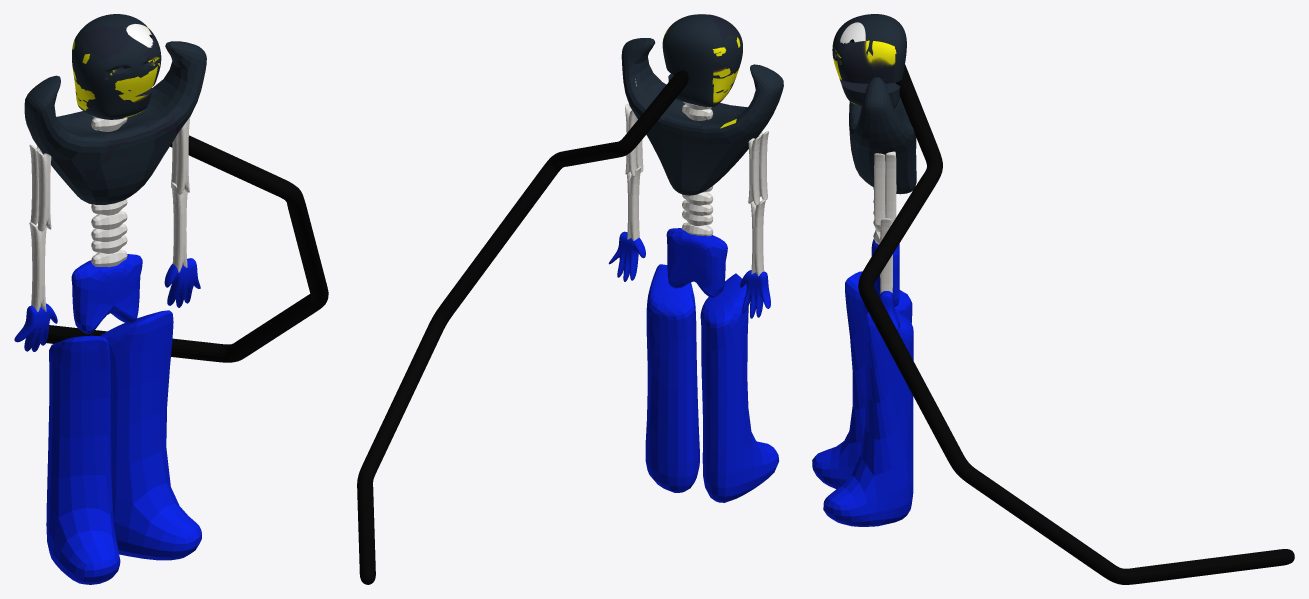
3 renders of one model, left to right at view 1: azimuth 30°, elevation 25°; view 2: azimuth 150°, elevation 25°; view 3: azimuth 270°, elevation 25°, orthographic. The views are drawn at different scales.
Parts seen in each view (by area): view 1: Куб.010, Куб.009, Cube, Куб.019, Куб.002, Куб.008, Куб.016, Куб.017, Куб.018, Куб.011, Куб.014, Куб.013 (+5 smaller); view 2: Куб.010, Cube, Куб.009, Куб.019, Куб.002, Куб.008, Куб.017, Куб.018, Куб.016, Куб.011, Куб.015, Куб.014; view 3: Куб.019, Куб.009, Куб.002, Cube, Куб.010, Куб.012, Куб.013.
Part boxes in pixels (<box>): Куб.010: <box>46,335,120,584</box>; Куб.009: <box>100,310,201,560</box>; Cube: <box>24,41,206,204</box>; Куб.019: <box>46,135,328,362</box>; Куб.002: <box>72,14,161,119</box>; Куб.008: <box>71,254,142,333</box>; Куб.016: <box>29,222,46,311</box>; Куб.017: <box>14,303,57,351</box>; Куб.018: <box>164,258,200,307</box>; Куб.011: <box>171,182,187,272</box>; Куб.014: <box>36,151,51,231</box>; Куб.013: <box>176,117,190,194</box>; Куб.010: <box>700,273,779,502</box>; Cube: <box>621,38,783,195</box>; Куб.009: <box>645,264,699,492</box>; Куб.019: <box>357,70,688,584</box>; Куб.002: <box>662,14,742,107</box>; Куб.008: <box>666,228,727,297</box>; Куб.017: <box>740,270,770,318</box>; Куб.018: <box>608,231,645,281</box>; Куб.016: <box>750,199,765,276</box>; Куб.011: <box>627,166,641,240</box>; Куб.015: <box>748,135,761,205</box>; Куб.014: <box>759,131,768,199</box>; Куб.019: <box>858,64,1294,584</box>; Куб.009: <box>823,304,913,526</box>; Куб.002: <box>832,14,906,108</box>; Cube: <box>849,77,916,194</box>; Куб.010: <box>812,271,912,489</box>; Куб.012: <box>885,151,896,225</box>; Куб.013: <box>874,153,885,225</box>.
Bounding box in the file's own units: 1026 × 1518 × 1352.
